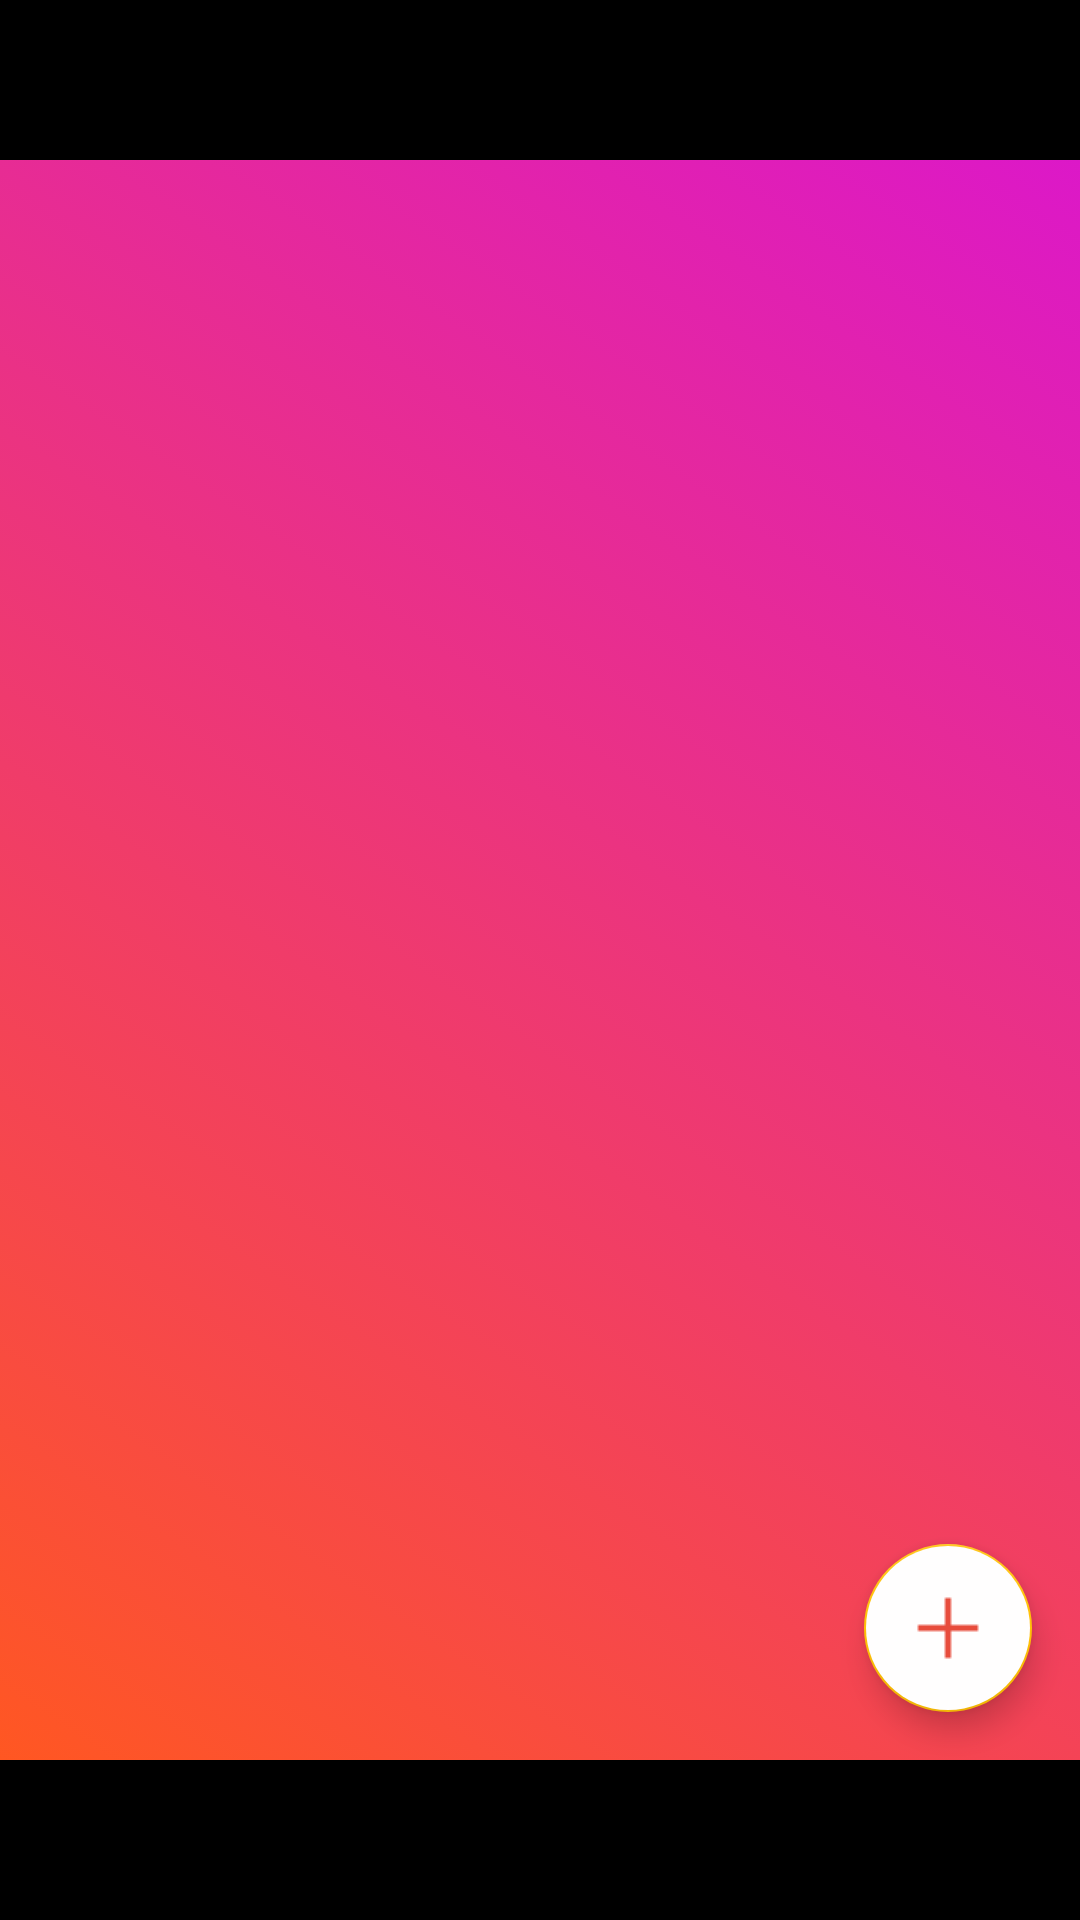

Where to tap for icons on this 1080w x 1920h app screen, as point (x, y):
plus: point (948, 1628)
